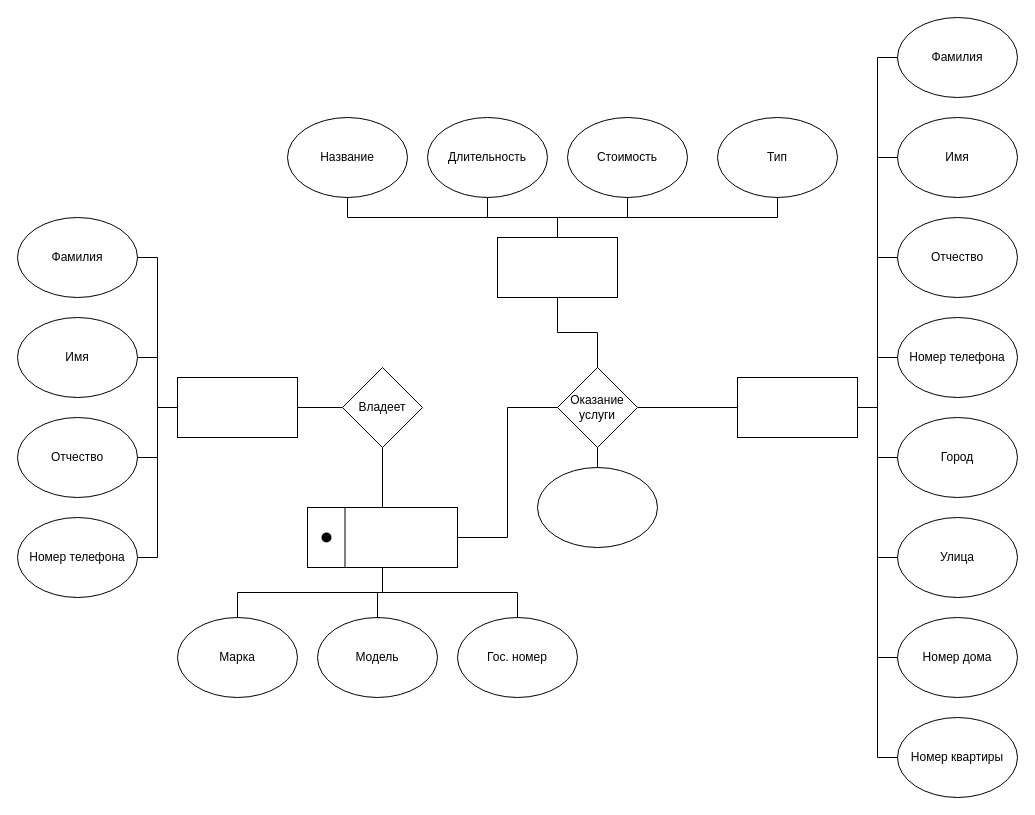
This 1035x815 diagram has some shape labels left out. The centre of each missing label's shape, as x and y in pixels:
"Автомобиль" belongs at (382,537).
"Время оказания" belongs at (597,507).
"Клиент" belongs at (237,407).
"Сотрудник" belongs at (797,407).
"Услуга" belongs at (557,267).
